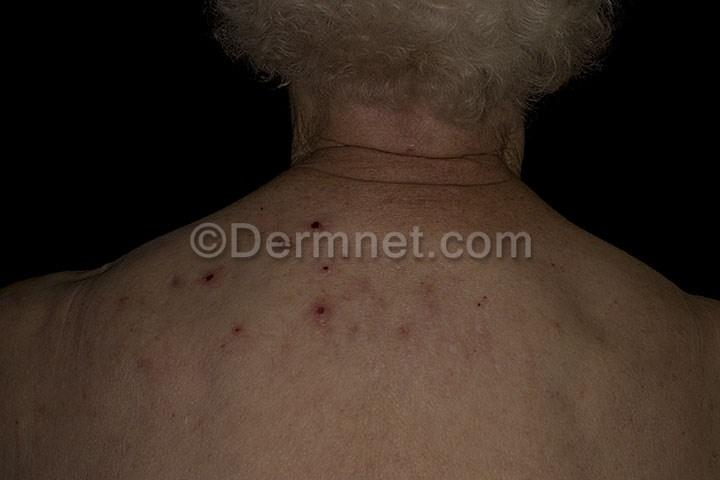Eczema: (336, 272, 409, 341), (399, 260, 453, 352), (451, 290, 518, 349), (289, 203, 352, 262), (160, 260, 236, 308), (507, 230, 571, 286), (292, 284, 348, 340), (121, 332, 176, 383), (98, 273, 152, 322), (296, 246, 357, 282), (215, 304, 260, 350), (392, 130, 429, 168)
